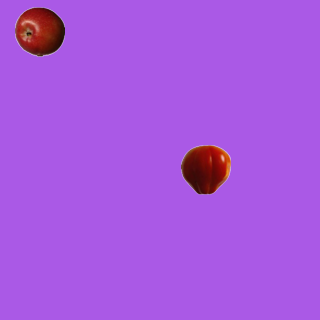Apple Braeburn: (14, 6, 64, 56)
Tomato 1: (180, 144, 230, 194)
